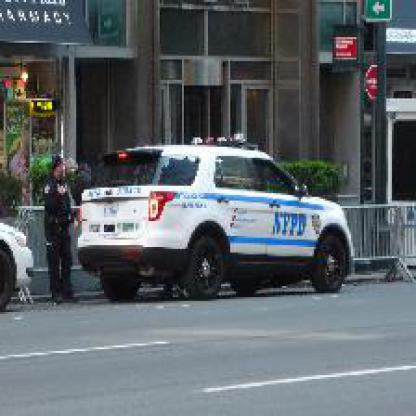emergency: (61, 134, 375, 319)
